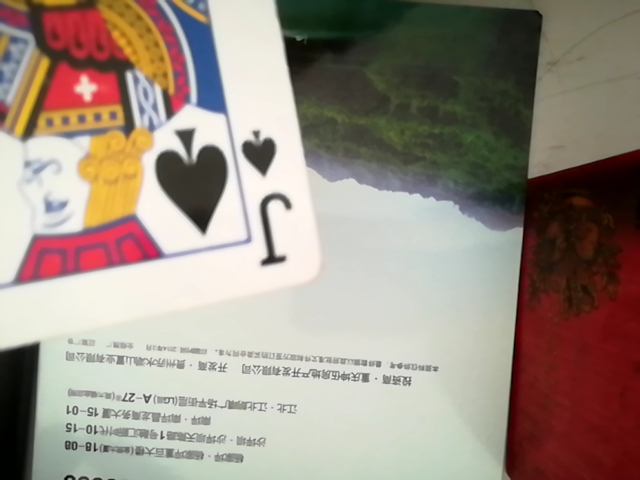ht j: (0, 0, 329, 363)
